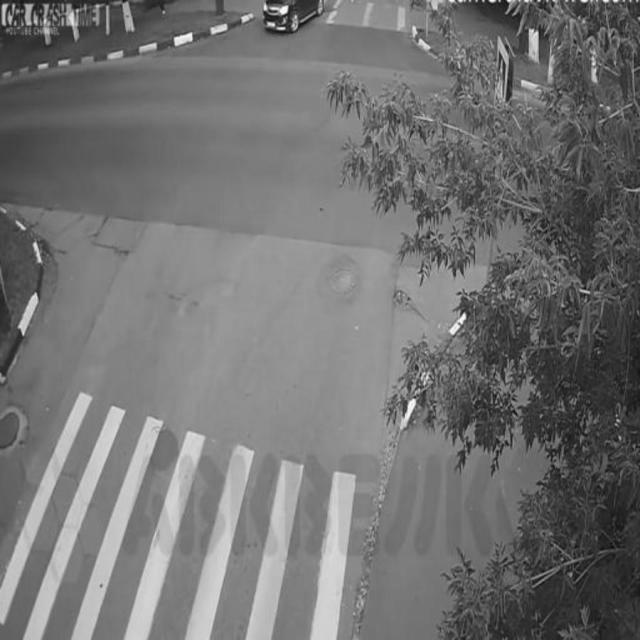vehicle: (253, 0, 337, 36)
